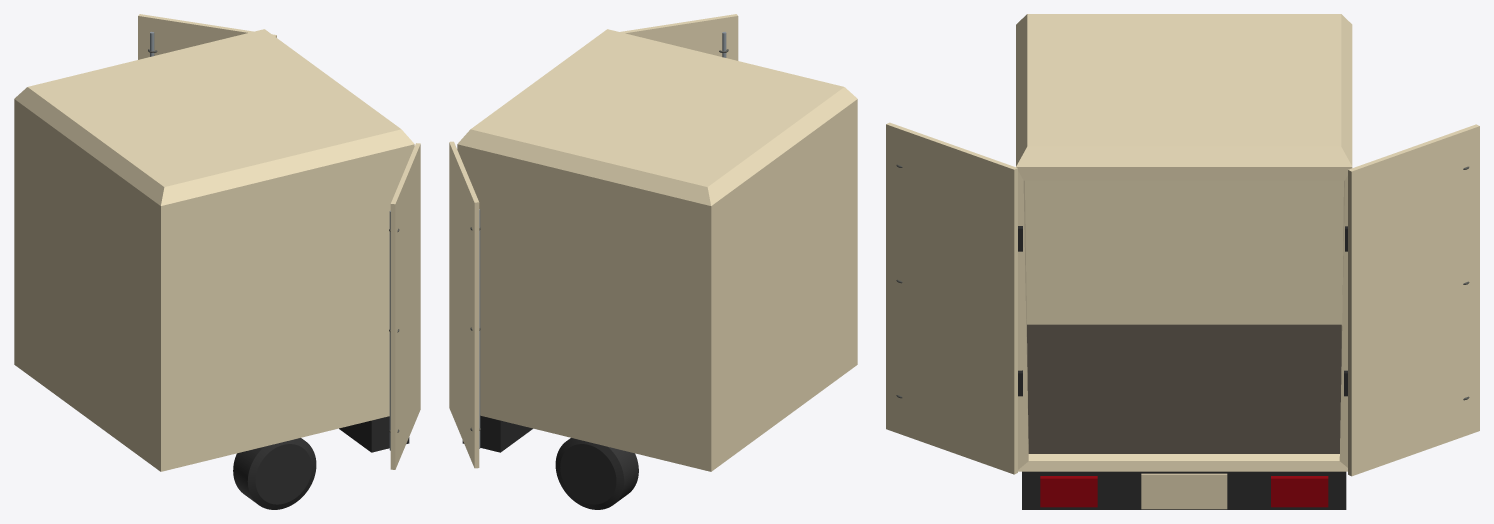
File: truckRyulMade14.fbx
3 renders of one model, left to right at view 1: azimuth 30°, elevation 25°; view 2: azimuth 150°, elevation 25°; view 3: azimuth 270°, elevation 25°, orthographic. The views are drawn at different scales.
Visible parts, largest first — view 1: truckStorage, LeftDoor, wheel, RightDoor, Lamphead, doorHand; view 2: truckStorage, RightDoor, wheel.001, LeftDoor, Lamphead, doorHand.002; view 3: truckStorage, RightDoor, LeftDoor, Lamphead, numberZone, BackHeadLight, BackHeadLight.001.
Boxes of the visible parts, bbox=[...] form: truckStorage: bbox=[14, 29, 414, 471]; LeftDoor: bbox=[390, 143, 420, 469]; wheel: bbox=[233, 438, 316, 509]; RightDoor: bbox=[138, 14, 276, 59]; Lamphead: bbox=[339, 416, 409, 452]; doorHand: bbox=[389, 210, 390, 450]; truckStorage: bbox=[457, 29, 857, 471]; RightDoor: bbox=[449, 141, 479, 468]; wheel.001: bbox=[555, 438, 638, 509]; LeftDoor: bbox=[620, 14, 738, 60]; Lamphead: bbox=[462, 415, 532, 452]; doorHand.002: bbox=[479, 209, 480, 448]; truckStorage: bbox=[1016, 14, 1352, 471]; RightDoor: bbox=[1348, 124, 1479, 476]; LeftDoor: bbox=[886, 122, 1017, 474]; Lamphead: bbox=[1022, 471, 1346, 509]; numberZone: bbox=[1141, 473, 1227, 509]; BackHeadLight: bbox=[1040, 476, 1097, 507]; BackHeadLight.001: bbox=[1271, 476, 1328, 507].
Size of the model in its own units: 207 by 264 by 353.
